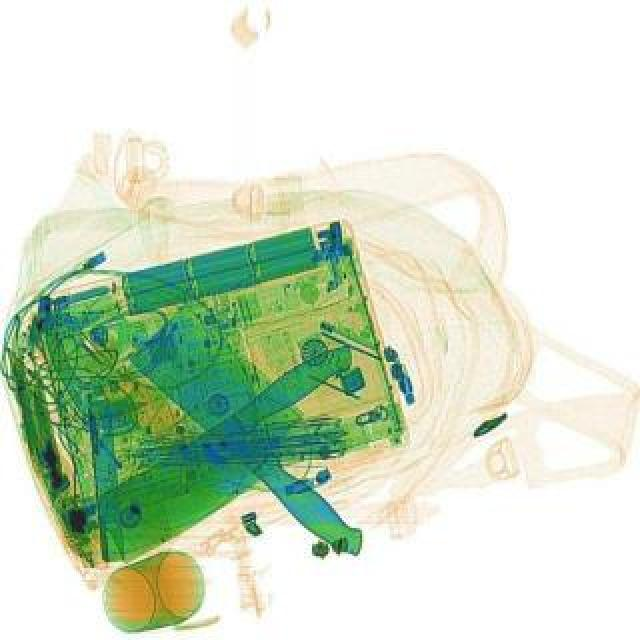knife: (118, 302, 414, 558), (76, 338, 392, 564)
